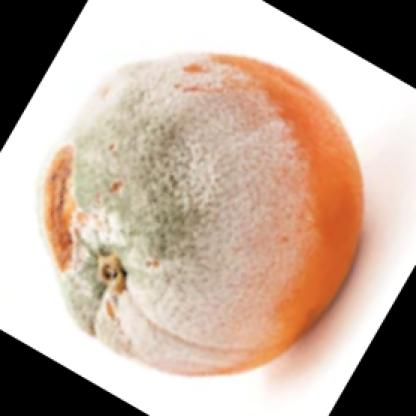rotten: (45, 54, 364, 385)
